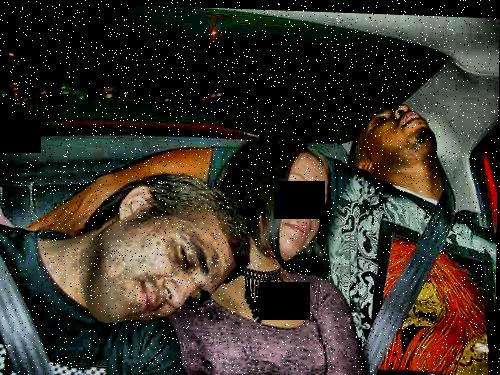seatbelt: (375, 176, 464, 344), (0, 218, 64, 365)
